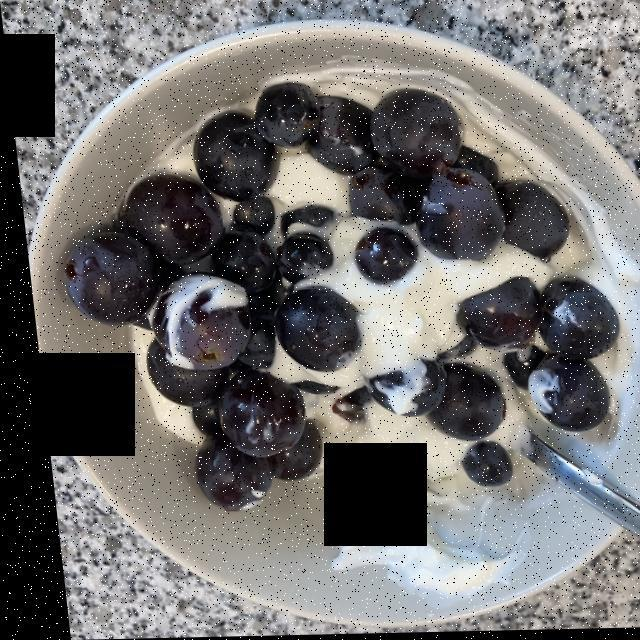curds: (253, 181, 632, 595)
grapes: (68, 90, 592, 501)
